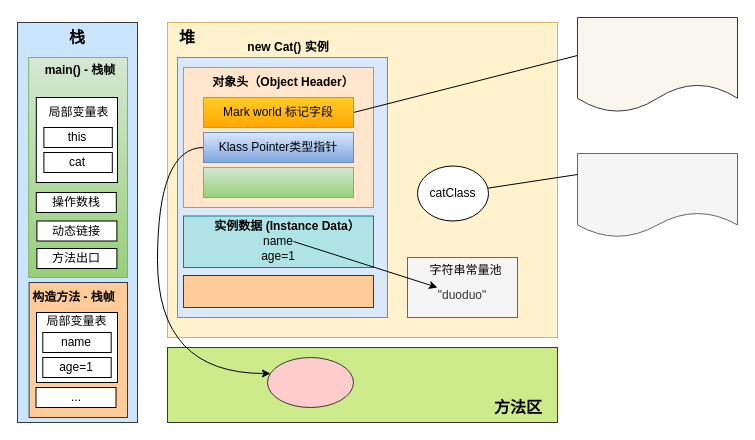
Image size: 755x440. Some labels were removed from this diagram. Here are the shapes that lost their labels. From the top down, the centre of each, then its label:
At point 657,64: "对象运行时元数据：哈希值、GC分代年龄、锁状态、线程持有锁...".
At point 278,182: "数组长度（数组类型才有）".
At point 657,195: "类装载完之后，JVM在堆中创建与之对应的`java.lang.Class`对象".
At point 278,291: "对齐填充（Padding）".
At point 310,382: "Cat的Class类元信息".
